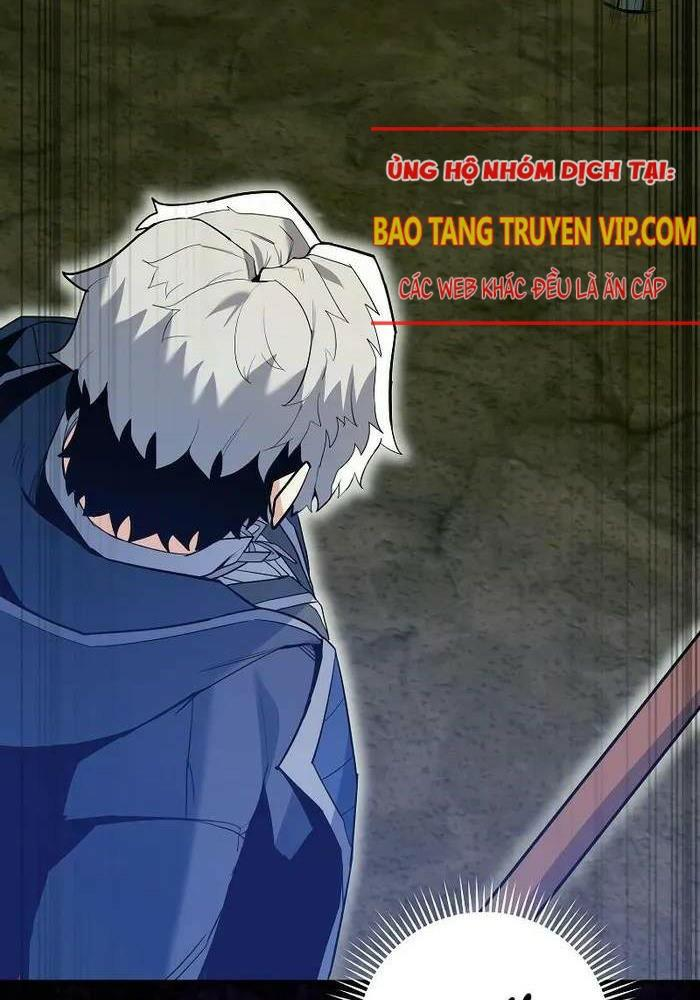quangcao: (370, 126, 700, 324)
